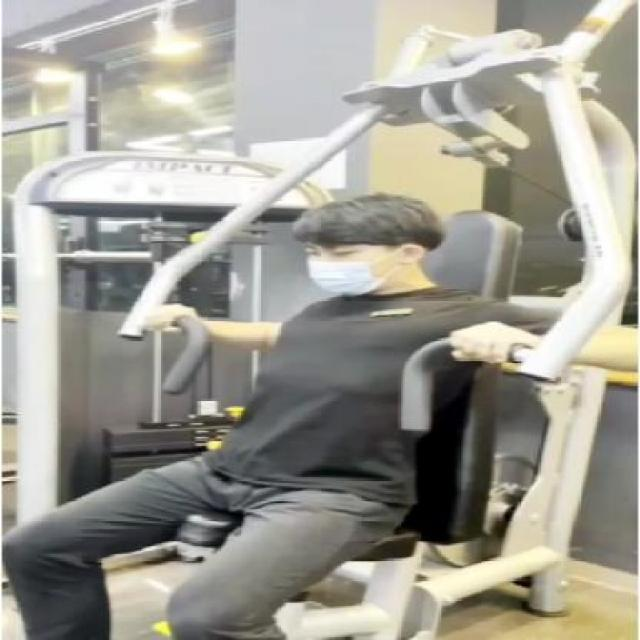Chest Press machine: (11, 0, 638, 640)
